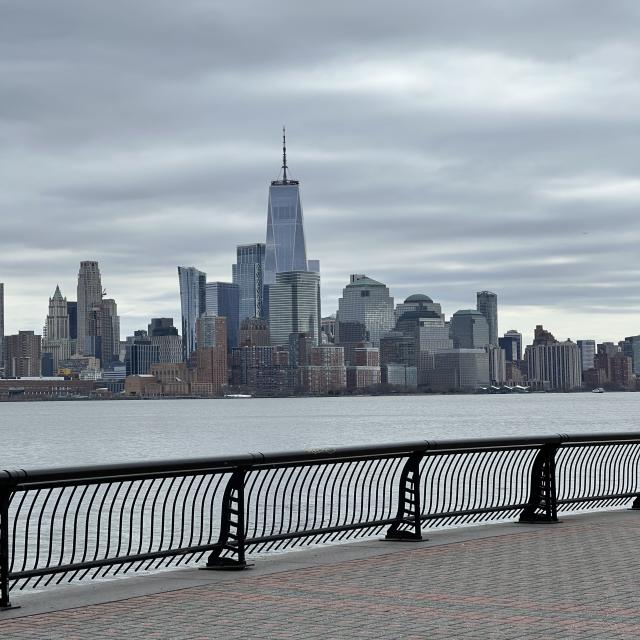WTC: (262, 126, 308, 274)
